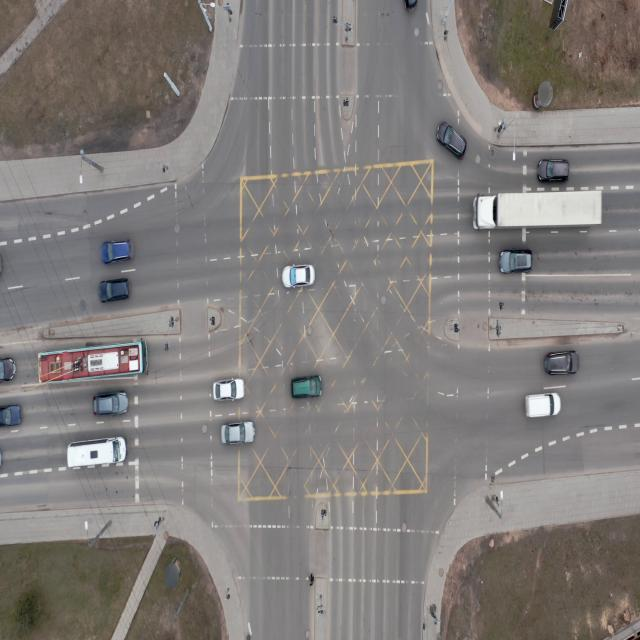vehicle: (472, 188, 602, 232), (38, 342, 147, 383), (66, 436, 126, 468), (436, 120, 466, 158), (92, 391, 128, 416), (525, 392, 561, 417), (544, 350, 579, 375), (101, 238, 134, 264), (221, 420, 255, 444), (498, 250, 532, 273), (538, 158, 570, 182), (98, 278, 130, 302), (282, 264, 315, 287), (291, 375, 322, 398), (213, 378, 244, 400), (1, 404, 22, 426), (0, 356, 16, 382), (404, 1, 418, 10), (308, 573, 314, 586)
